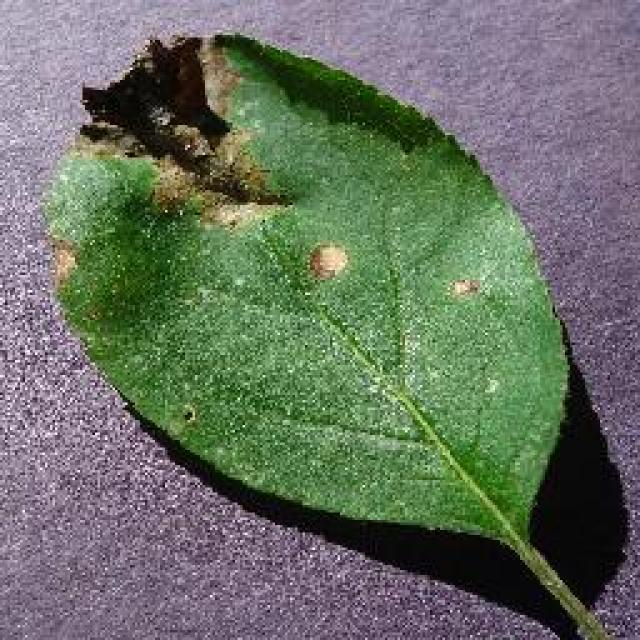apple black rot: (40, 28, 630, 638)
